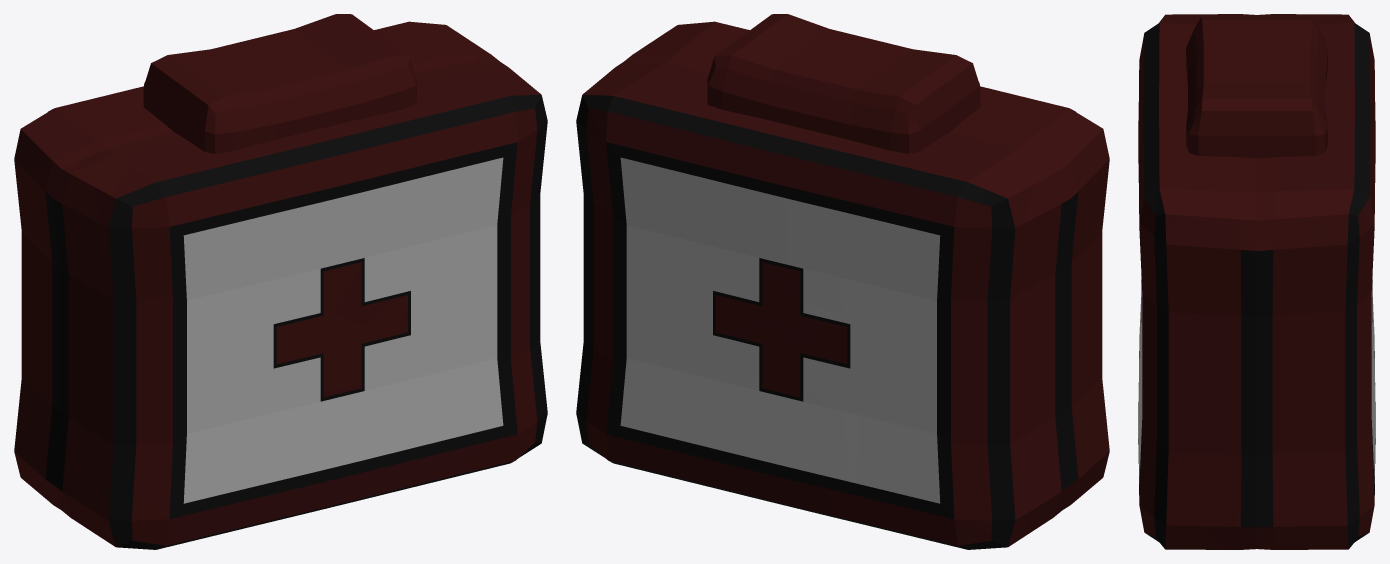
The model's file is aidkit.obj.
3 renders of one model, left to right at view 1: azimuth 30°, elevation 25°; view 2: azimuth 150°, elevation 25°; view 3: azimuth 270°, elevation 25°, orthographic. The views are drawn at different scales.
Visible parts, largest first — view 1: FirstAidKit; view 2: FirstAidKit; view 3: FirstAidKit.
Boxes of the visible parts, box(x1,y1,x2,y2) form: FirstAidKit: box(14, 14, 547, 549); FirstAidKit: box(576, 14, 1109, 549); FirstAidKit: box(1138, 14, 1375, 549).
Bounding box in the file's own units: 156 × 136 × 73.33.
